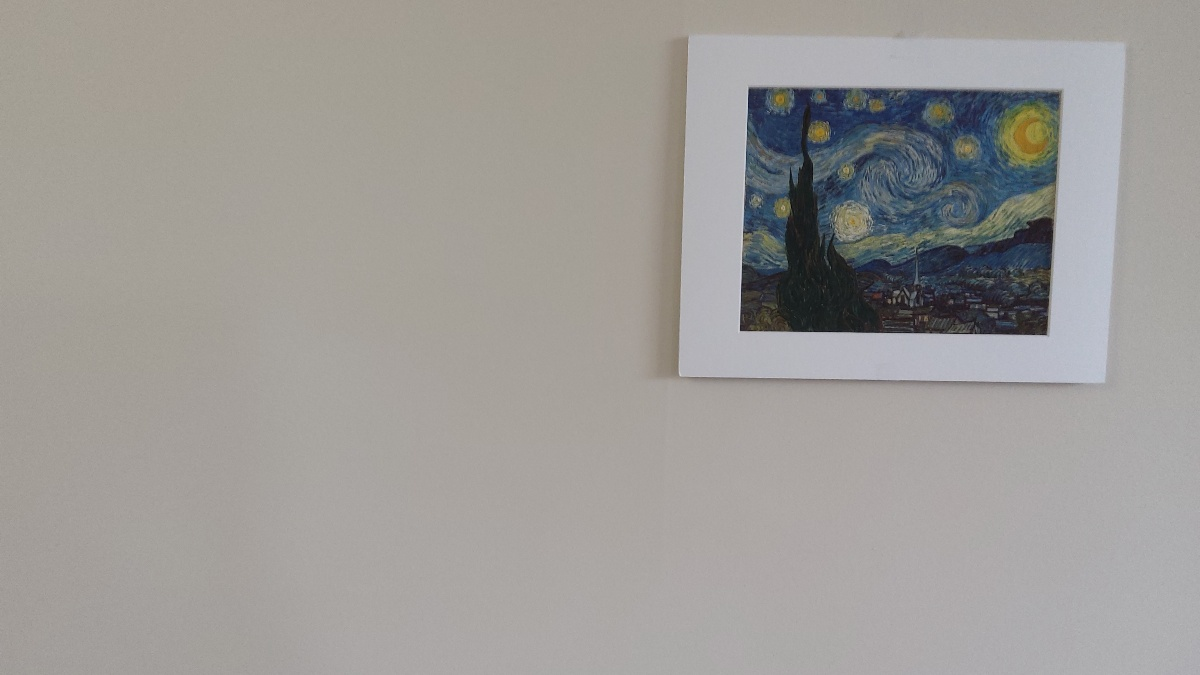painting: (739, 75, 1063, 346)
